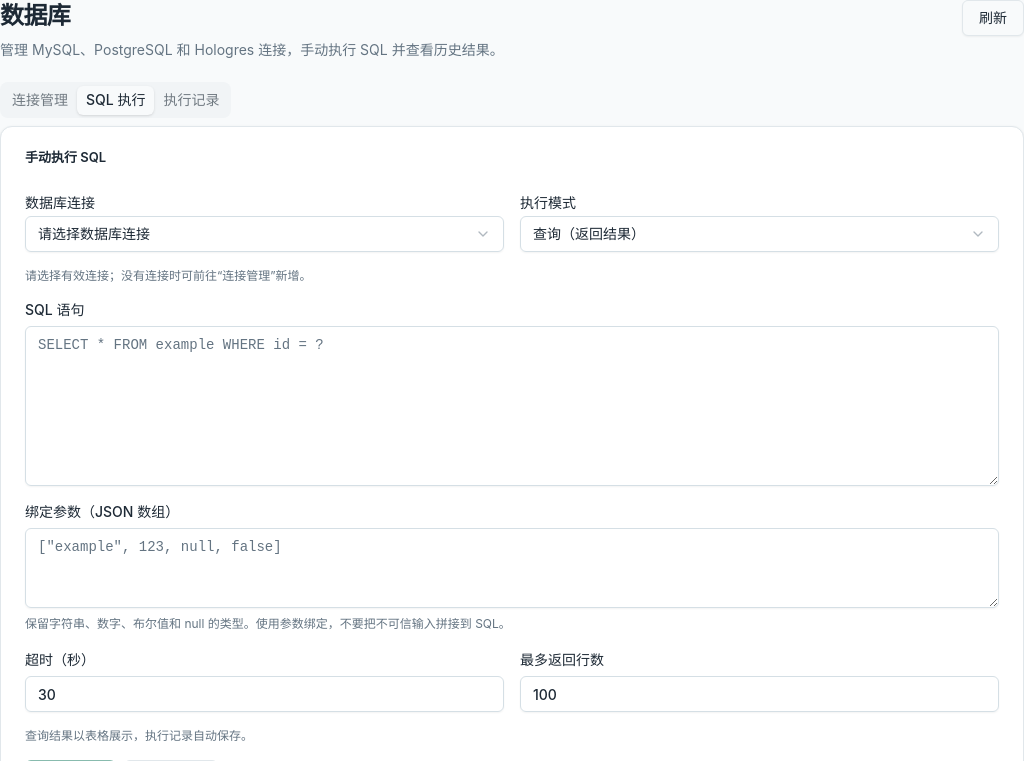
Scenario: database workbench › keeps stored passwords omitted while editing driver settings with optimistic versions
This screenshot has width=1024, height=761.
Click the tab "连接管理".
click(40, 100)  # box [3, 86, 77, 114]
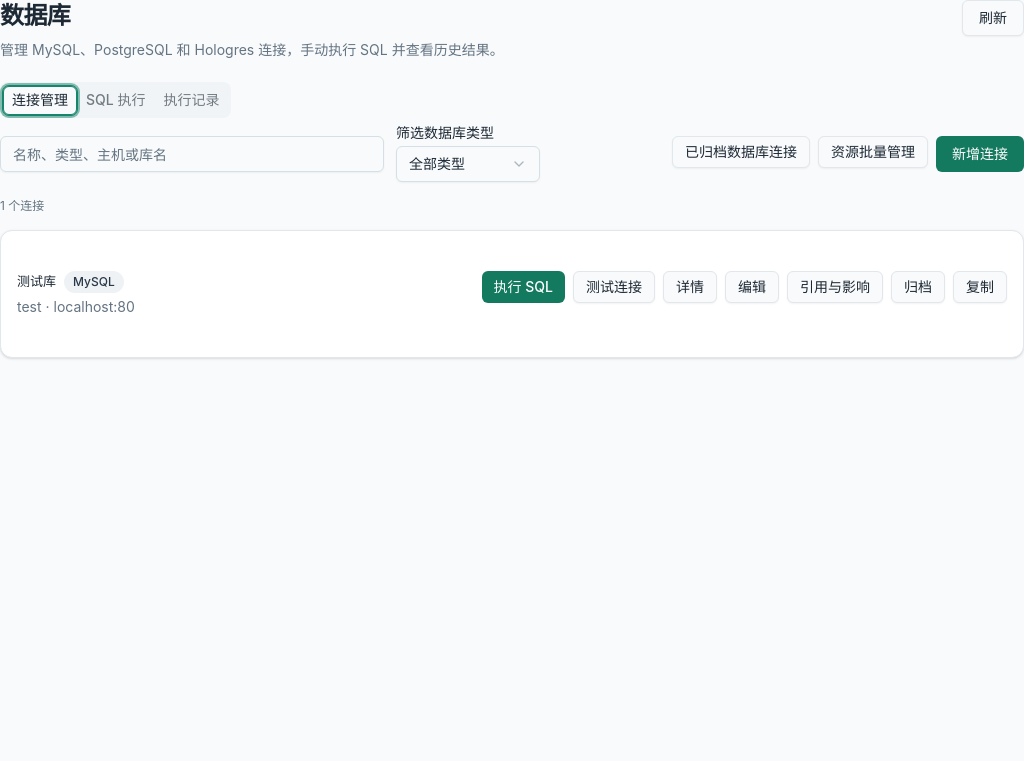
Click the button with aria-label "编辑 测试库 的连接配置".
click(752, 287)  # box [725, 271, 779, 303]
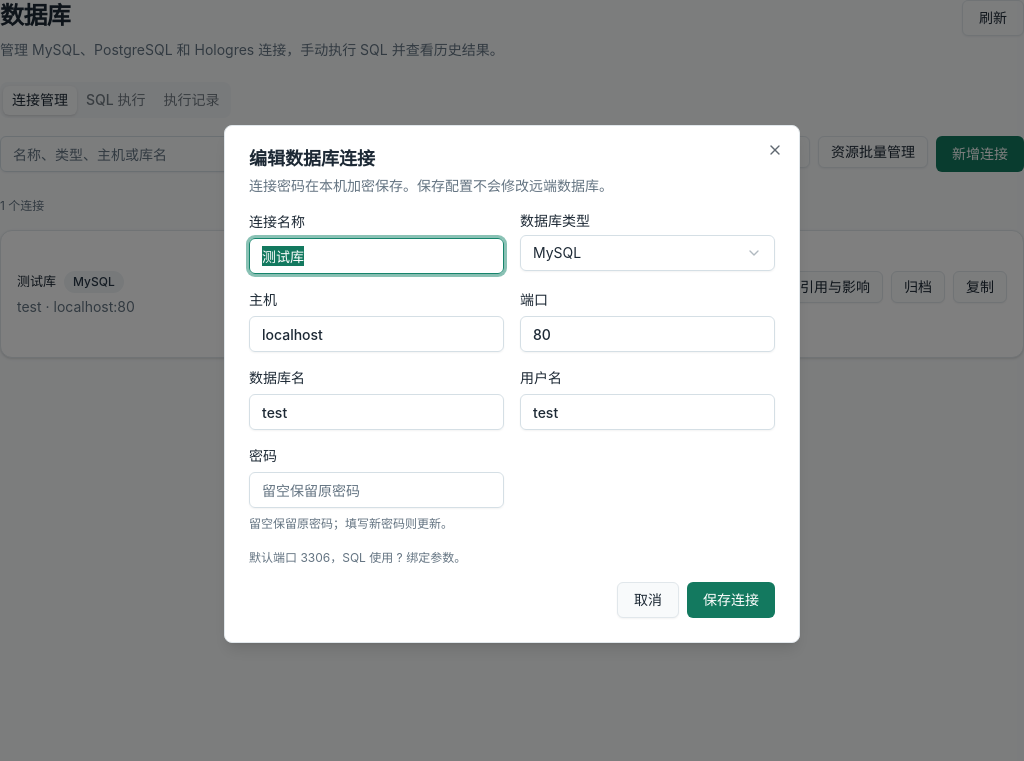
Now the number field labelled "端口" holds "80", box [520, 316, 775, 352]
Click the dropdown named "数据库类型".
click(648, 253)  # box [520, 235, 775, 271]
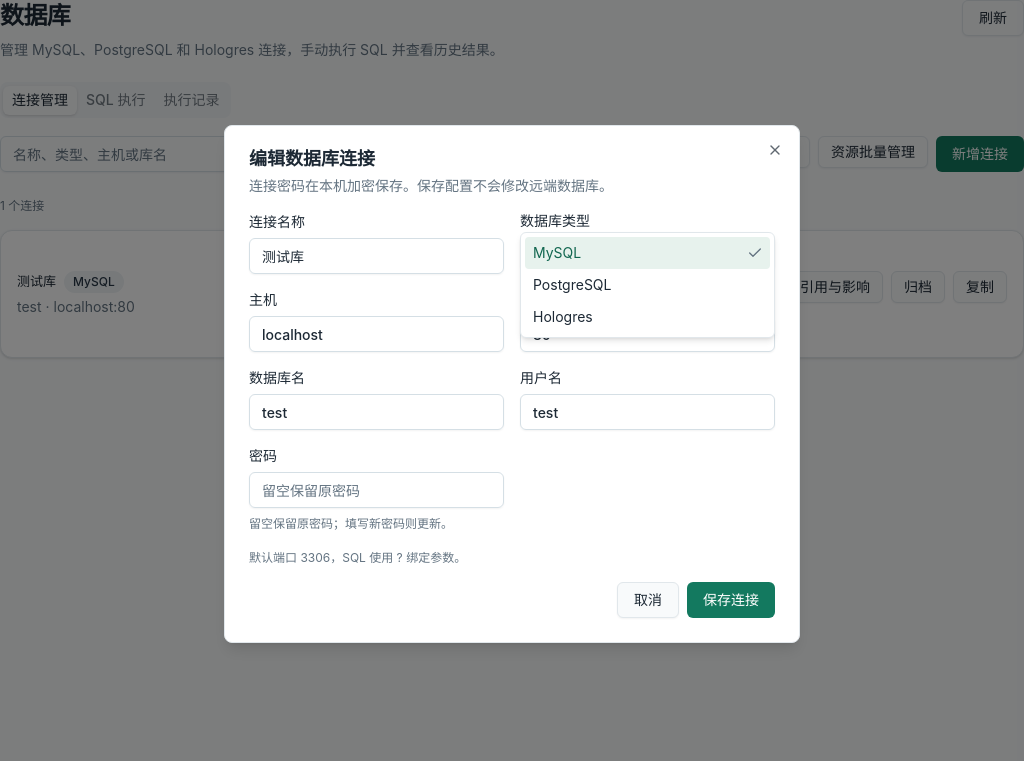
Click the option "Hologres".
click(563, 316)  # box [533, 308, 593, 325]
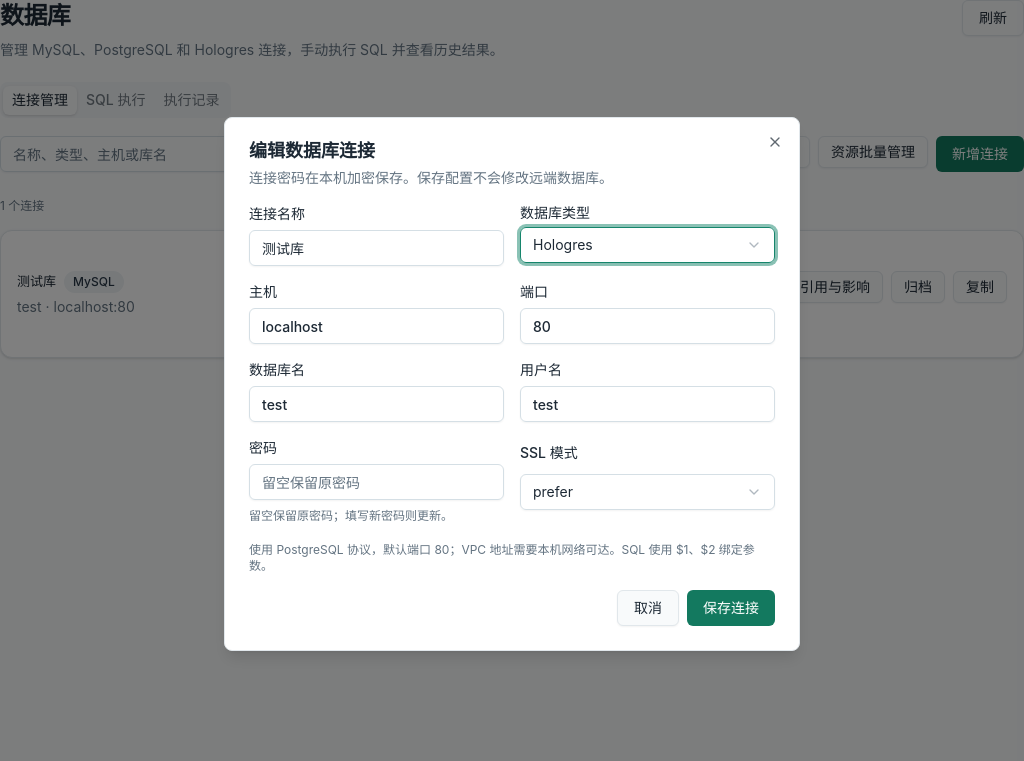
Now the number field labelled "端口" holds "80", box [520, 308, 775, 344]
Click the button "保存连接".
click(731, 608)  # box [687, 590, 775, 626]
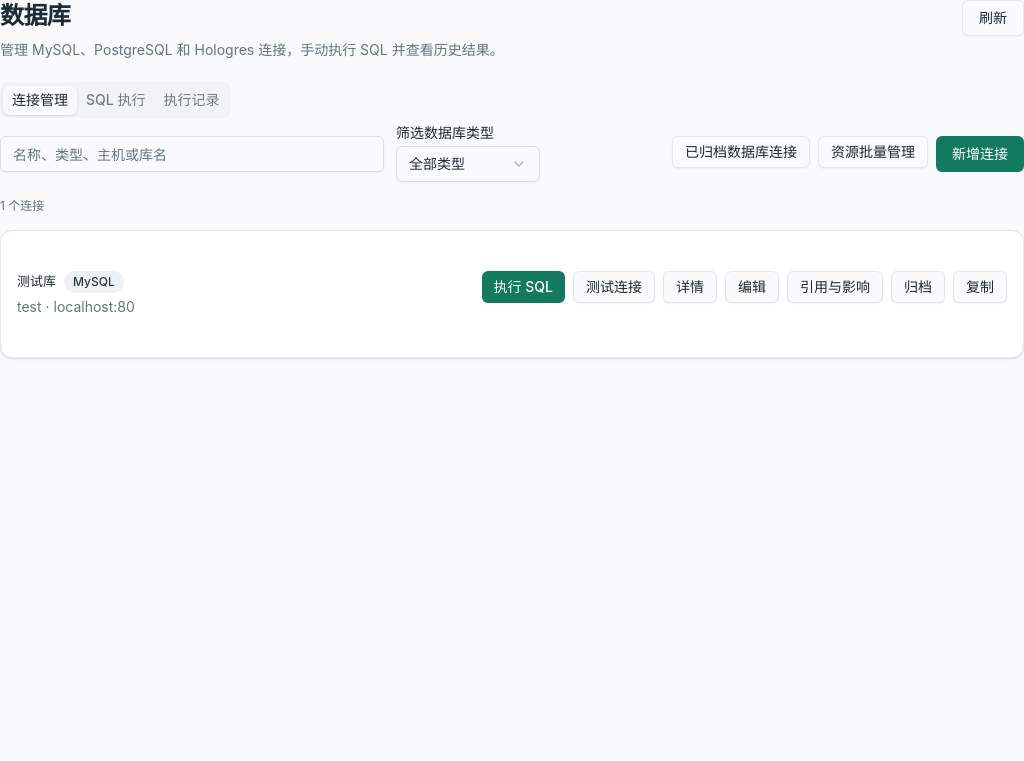
Now the heading "编辑数据库连接" is gone
